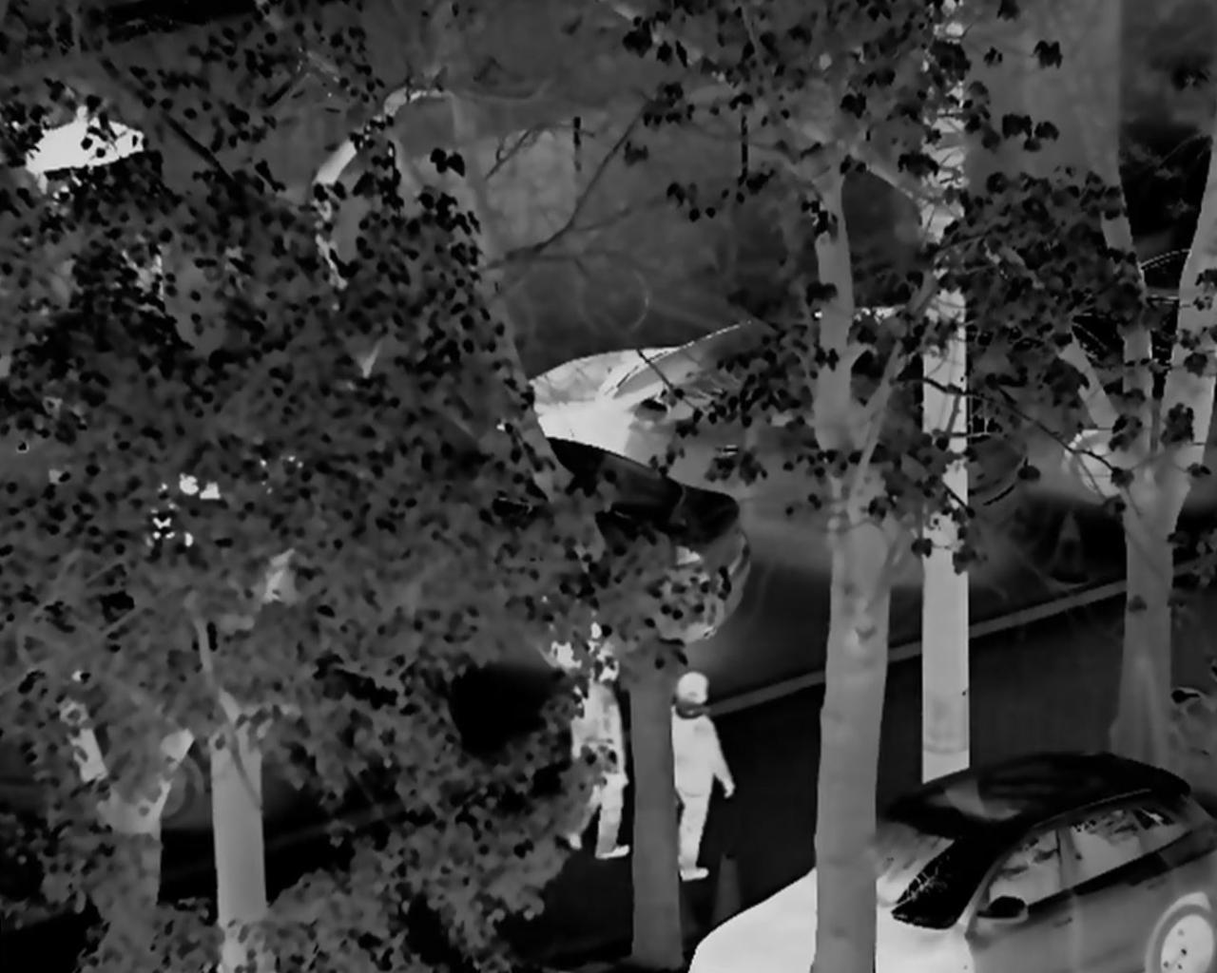person: (661, 666, 741, 889), (555, 658, 633, 863)
